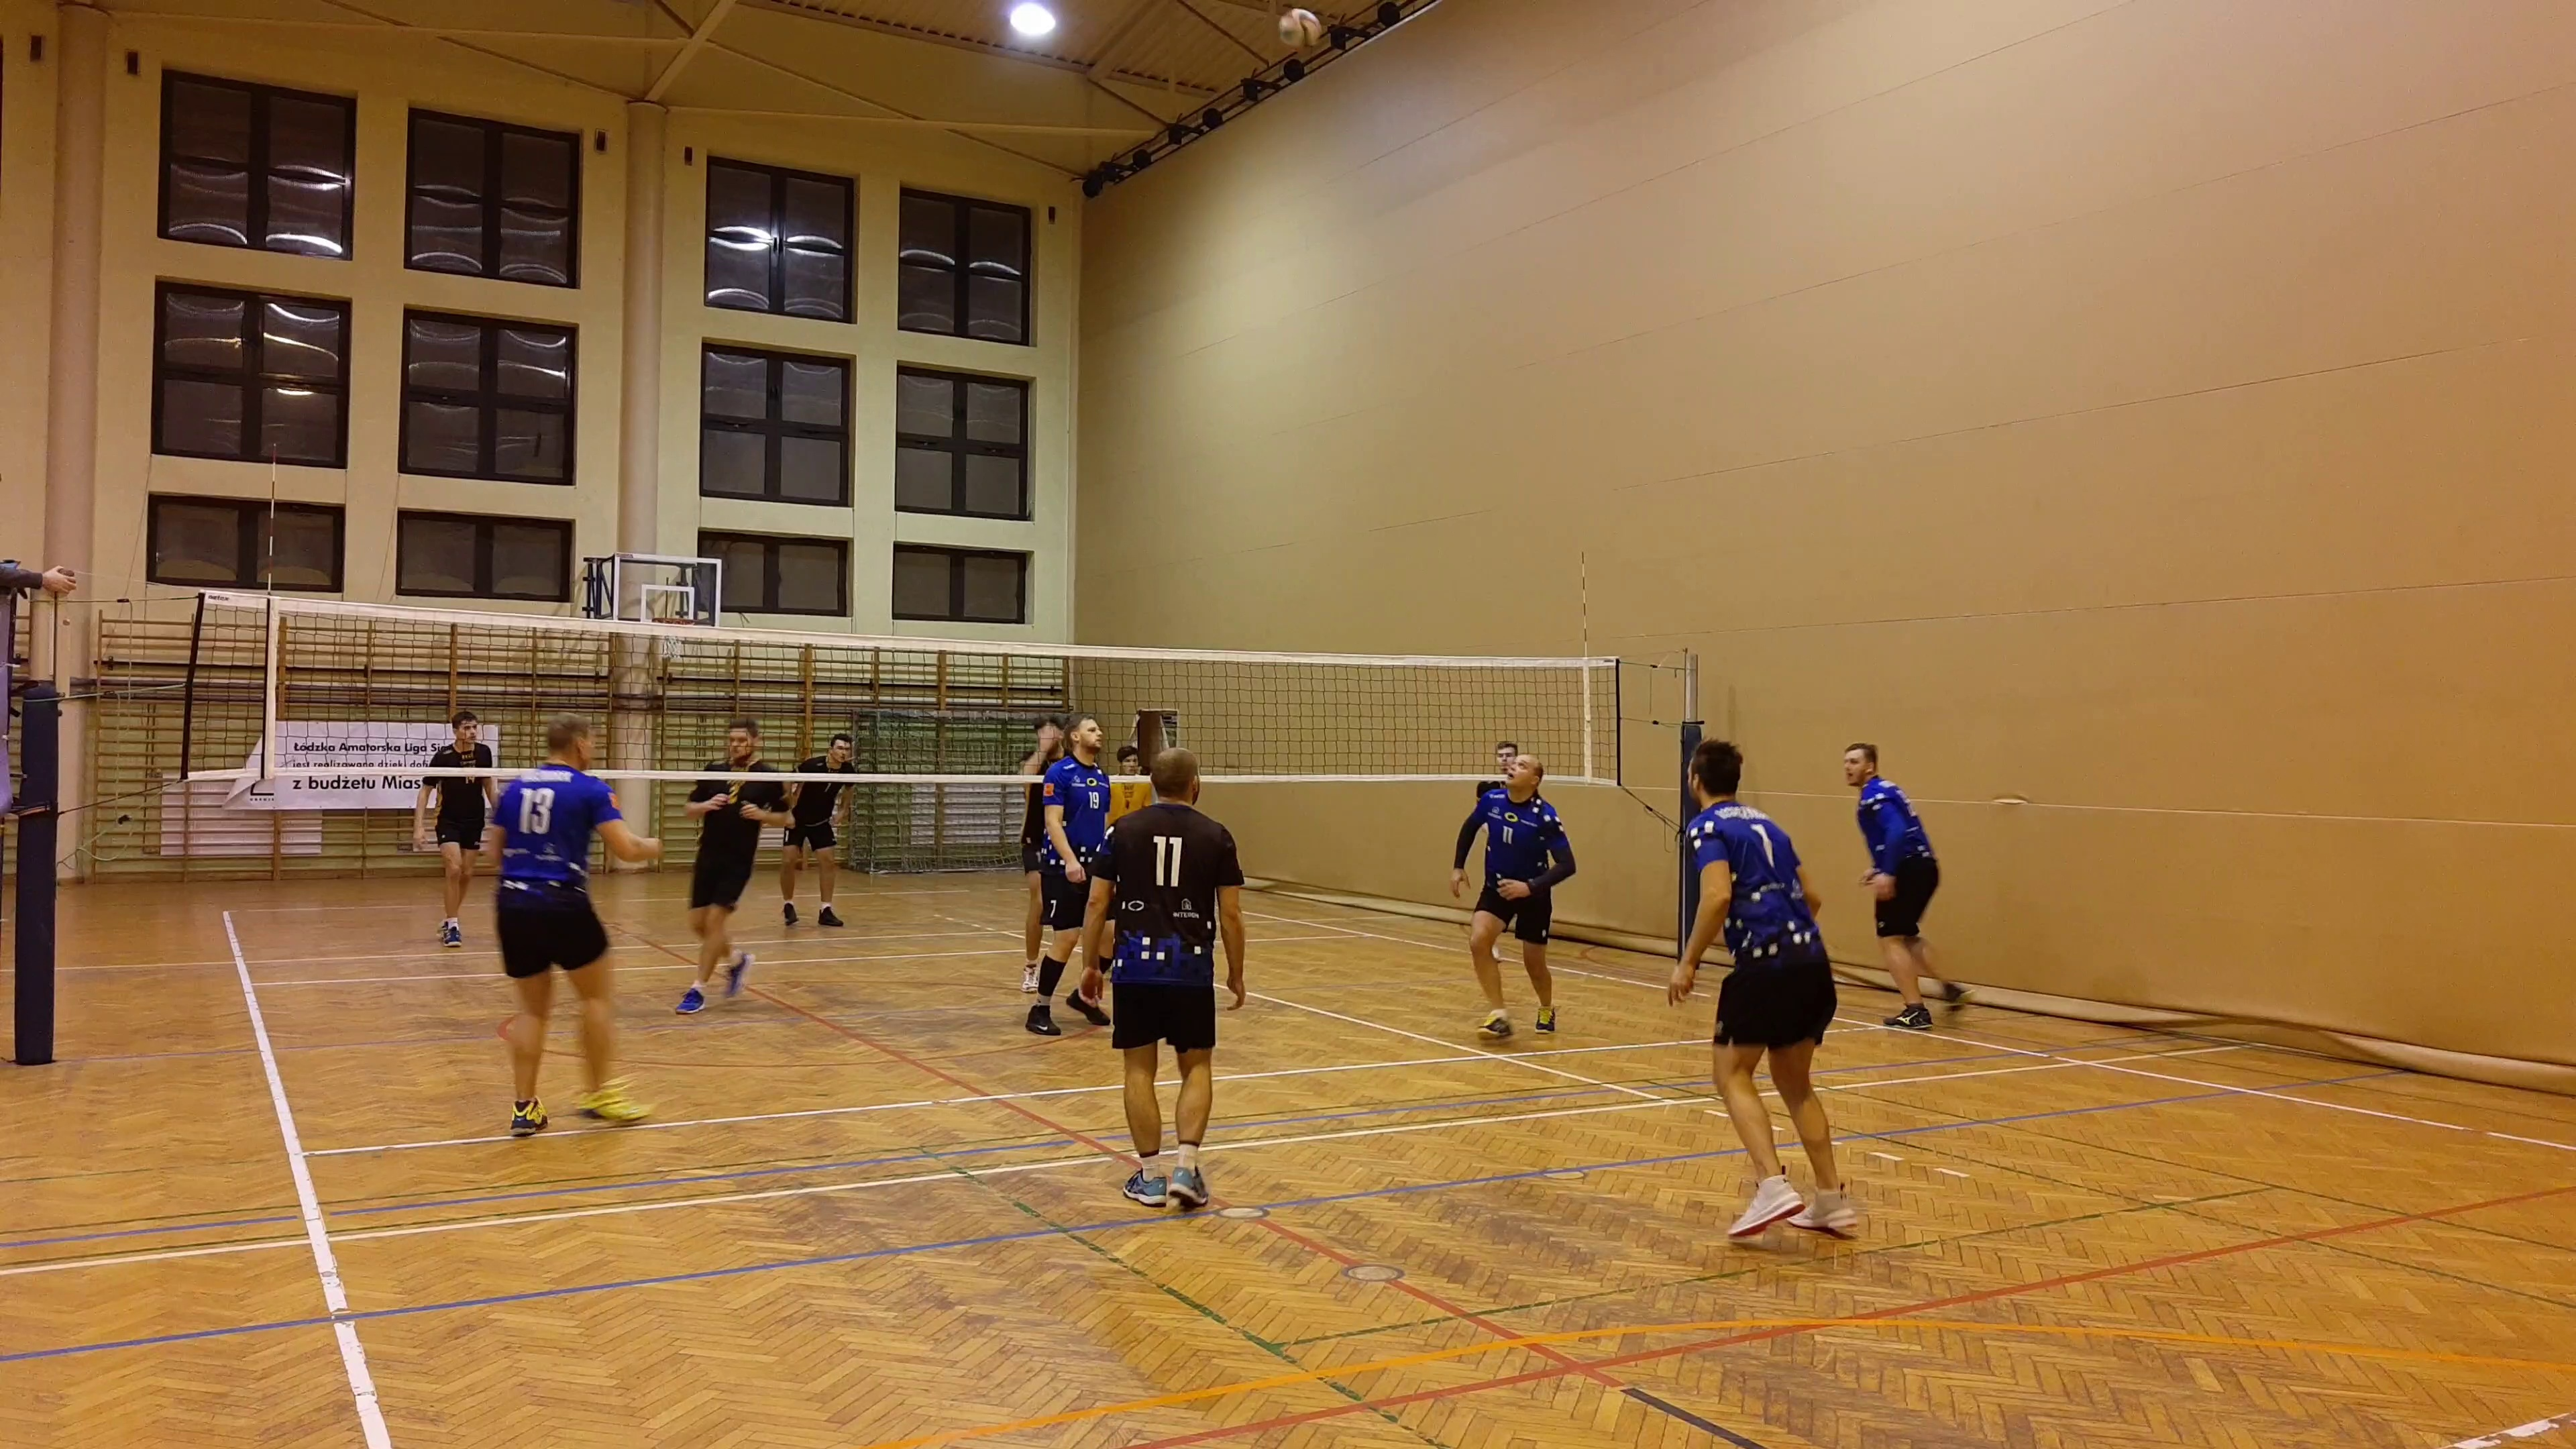ball: (1277, 9, 1322, 50)
